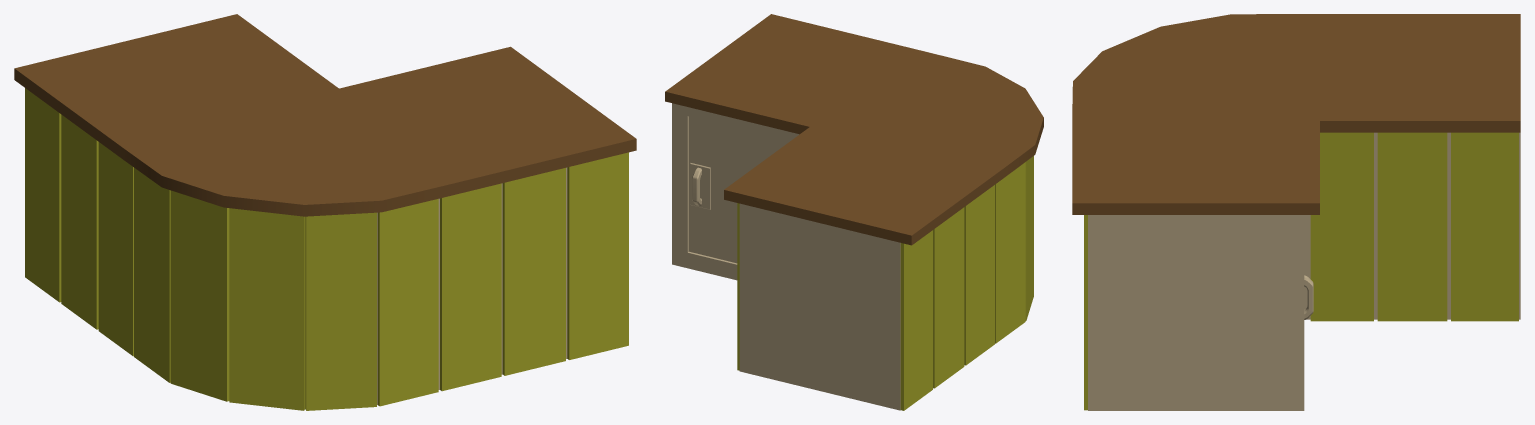
Rendered from Bar_Corner.fbx.
3 renders of one model, left to right at view 1: azimuth 30°, elevation 25°; view 2: azimuth 150°, elevation 25°; view 3: azimuth 270°, elevation 25°, orthographic. The views are drawn at different scales.
Visible parts, largest first — view 1: polySurface7153; view 2: polySurface7153; view 3: polySurface7153.
Part boxes in pixels (<box>): polySurface7153: <box>14,14,636,410</box>; polySurface7153: <box>665,14,1043,410</box>; polySurface7153: <box>1072,14,1520,410</box>.
Bounding box in the file's own units: 2.07 × 1.06 × 2.07.
